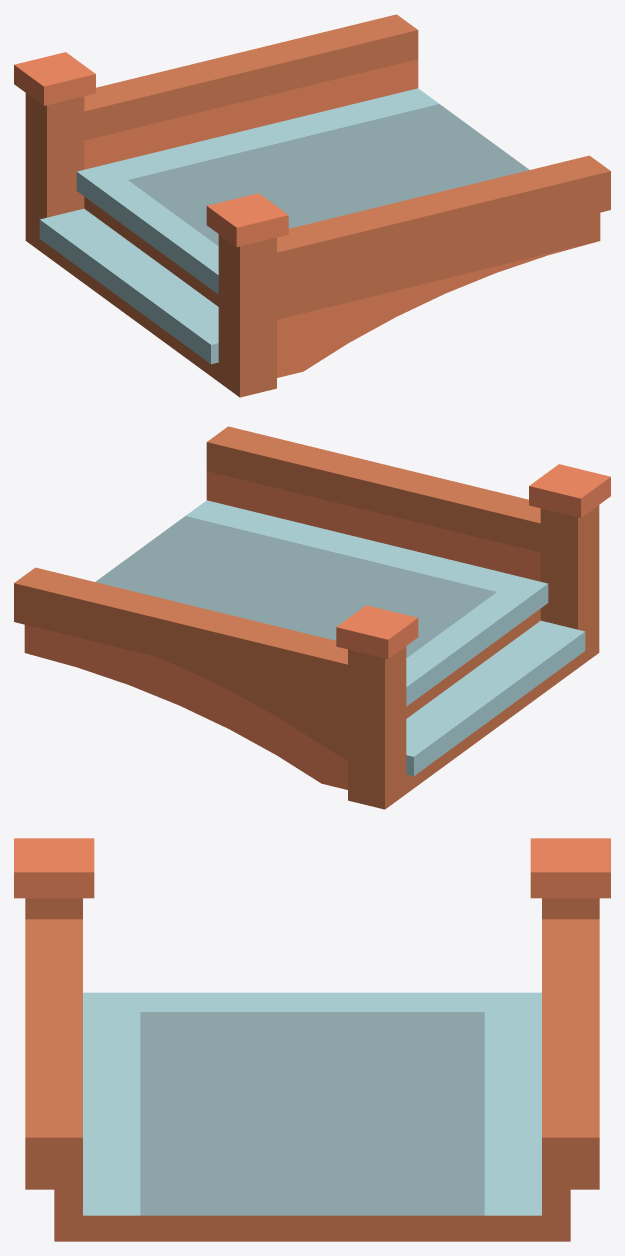
File: bridge_side_woodRound.dae
3 views of the same model, one above another, from view 1: azimuth 30°, elevation 25°; view 2: azimuth 150°, elevation 25°; view 3: azimuth 270°, elevation 25° (orthographic). The views are drawn at different scales.
Parts seen in each view (by area): view 1: bridge_side_woodRound; view 2: bridge_side_woodRound; view 3: bridge_side_woodRound.
Boxes of the visible parts, x1,y1,x2,y2 form: bridge_side_woodRound: (14,14,610,397); bridge_side_woodRound: (14,426,610,809); bridge_side_woodRound: (14,838,610,1241).
Size of the model in its own units: 1.02 by 0.45 by 1.04.
